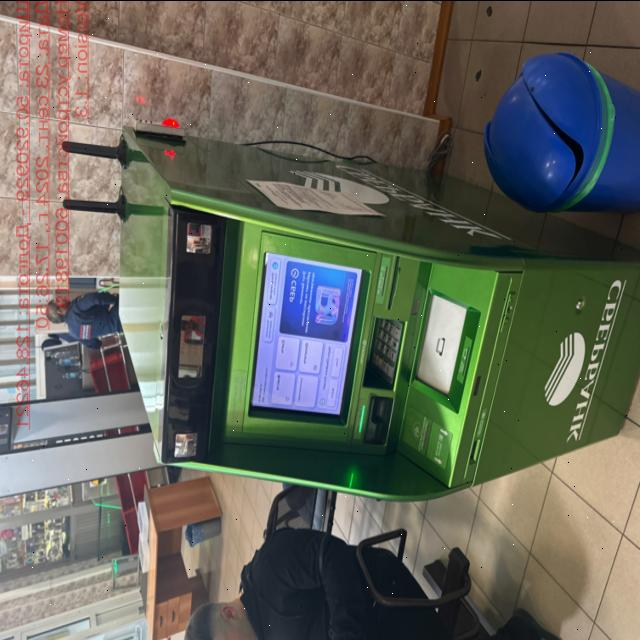bank: (117, 119, 640, 509)
